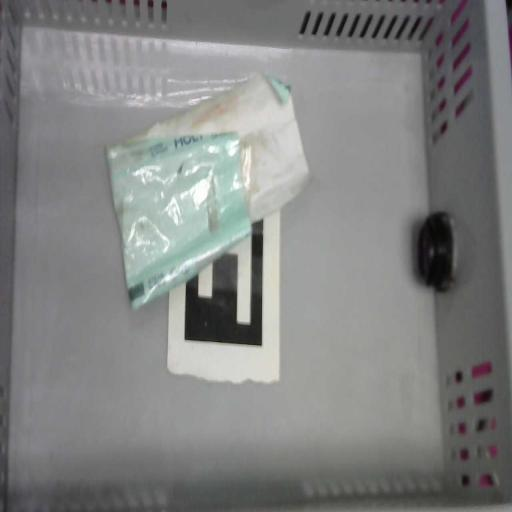QR: (165, 211, 281, 381)
triple_syringe: (102, 67, 312, 301)
